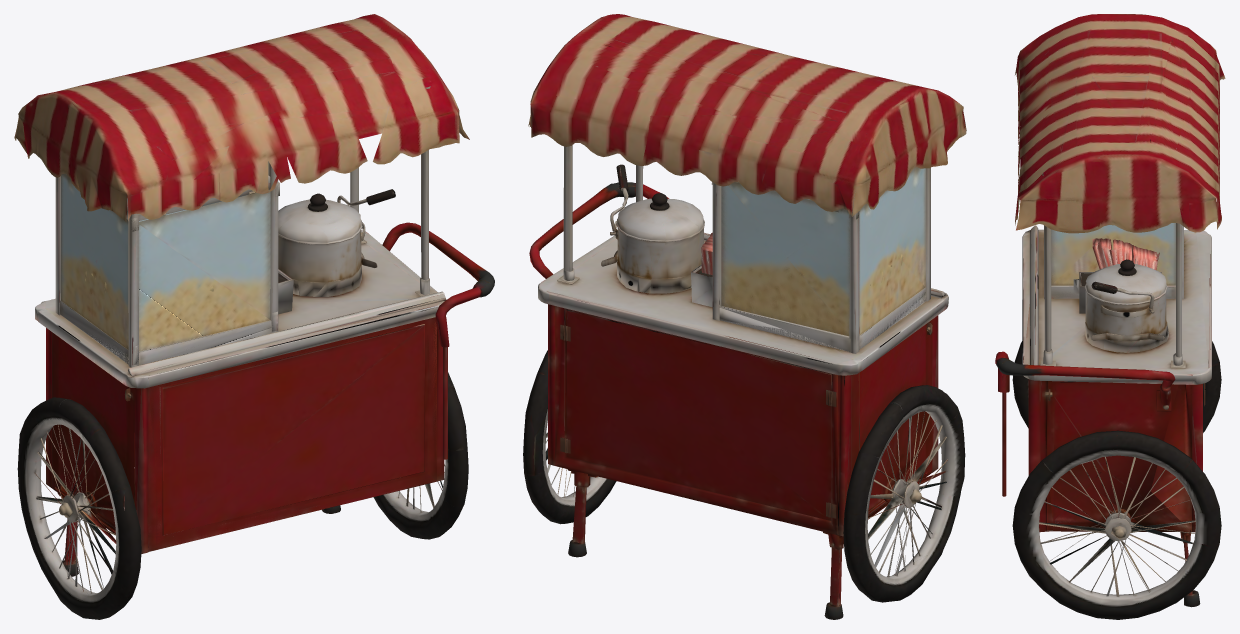
Rendered from carrinho-pipoca-77657b767901.glb.
The picture shows the model from 3 angles, left to right: view 1: azimuth 30°, elevation 25°; view 2: azimuth 150°, elevation 25°; view 3: azimuth 270°, elevation 25°; orthographic projection. The views are drawn at different scales.
Parts seen in each view (by area): view 1: geometry_0; view 2: geometry_0; view 3: geometry_0.
Boxes of the visible parts, x1,y1,x2,y2 form: geometry_0: (14, 14, 494, 619); geometry_0: (523, 14, 966, 619); geometry_0: (995, 14, 1225, 619).
Bounding box in the file's own units: 0.7505 × 0.9531 × 0.4326.
Materials: 1 (1 with a texture image).
